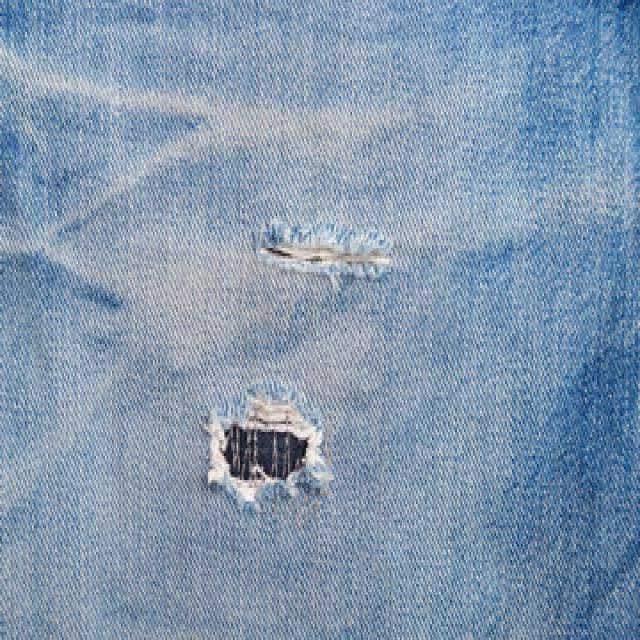Hole: (204, 383, 333, 511), (253, 222, 393, 290)
